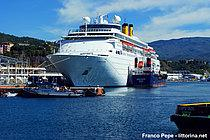Ship: (44, 10, 166, 93)
